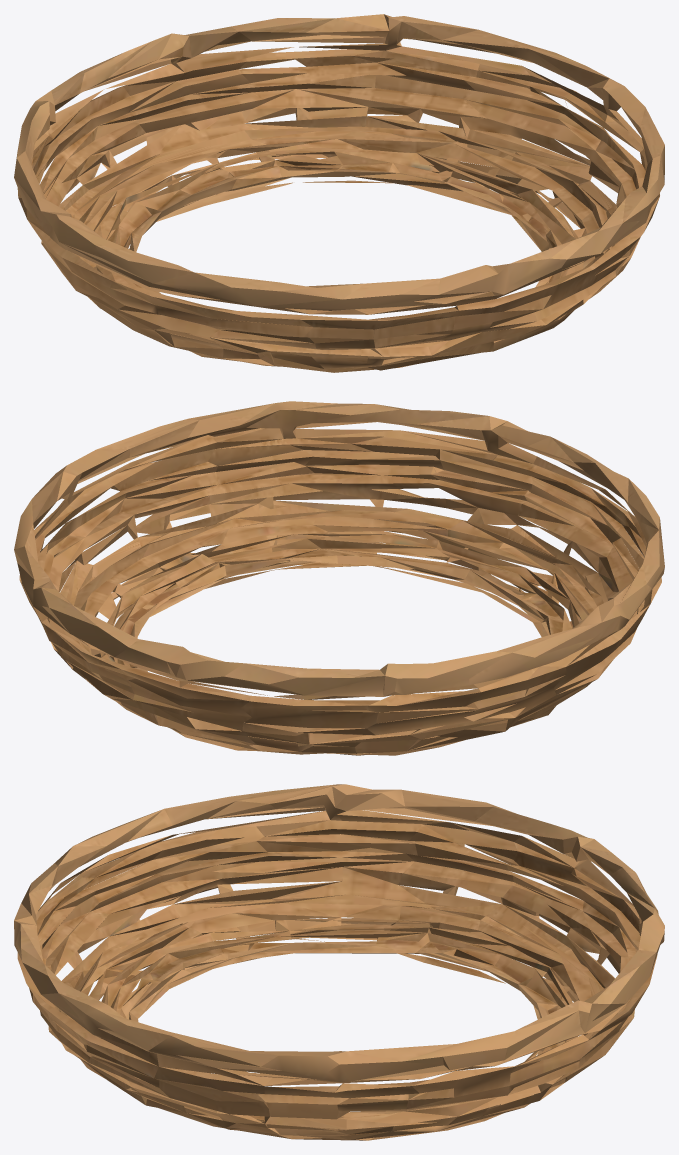
The model's file is basket.glb.
The picture shows the model from 3 angles, top to bottom: view 1: azimuth 30°, elevation 25°; view 2: azimuth 150°, elevation 25°; view 3: azimuth 270°, elevation 25°; orthographic projection.
Size of the model in its own units: 1.9 by 0.401 by 1.89.
Materials: 1 (1 with a texture image).
